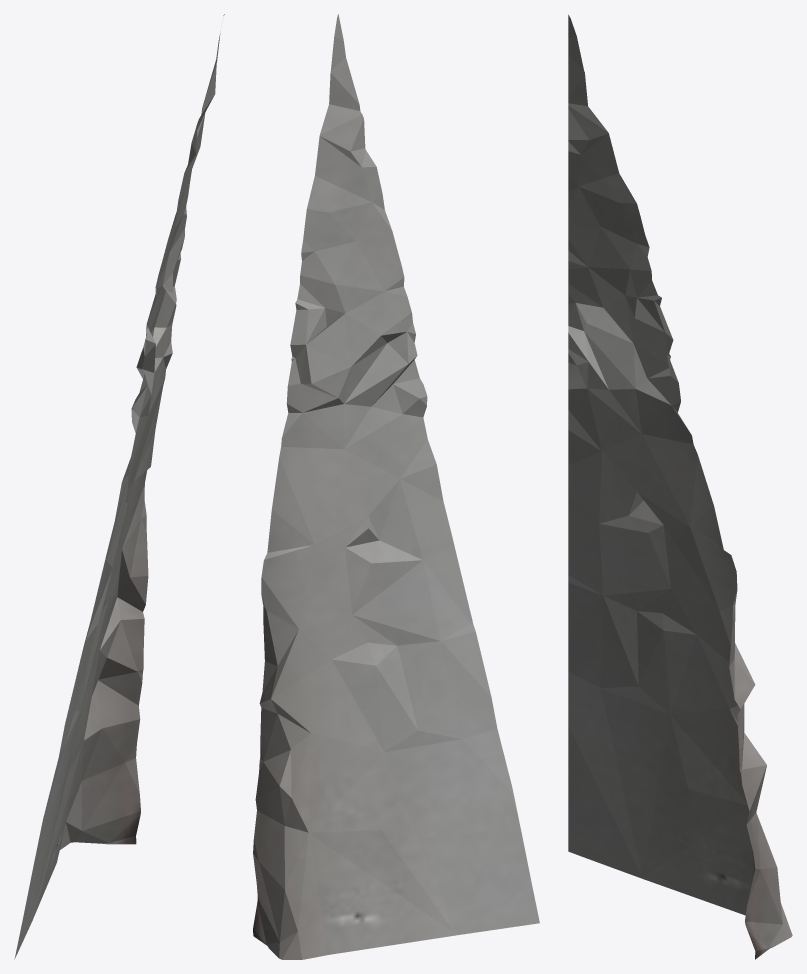
3 renders of one model, left to right at view 1: azimuth 30°, elevation 25°; view 2: azimuth 150°, elevation 25°; view 3: azimuth 270°, elevation 25°, orthographic. The views are drawn at different scales.
Size of the model in its own units: 0.3133 by 1.28 by 0.2739.
1 material, 1 textured.
